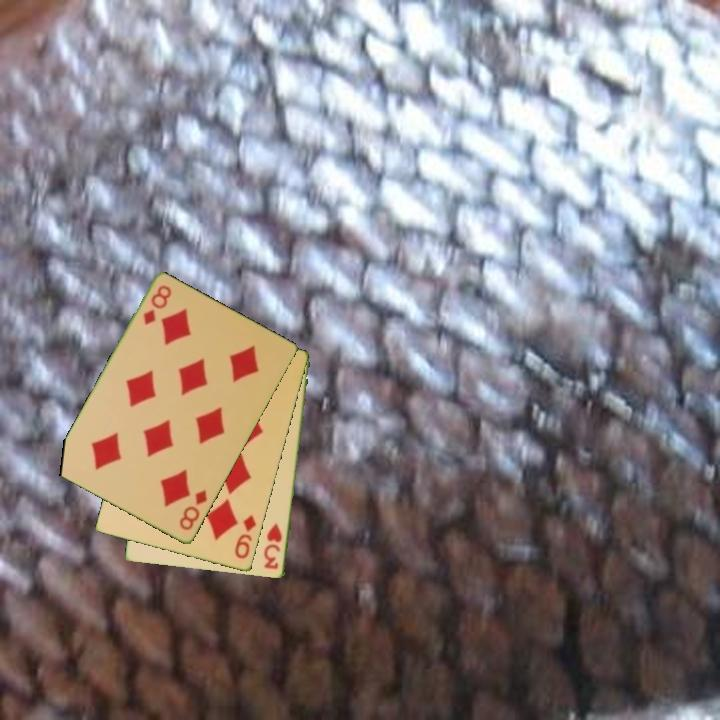3h: (261, 520, 285, 572)
8d: (139, 282, 174, 328), (176, 487, 210, 534)
9d: (231, 512, 259, 562)
